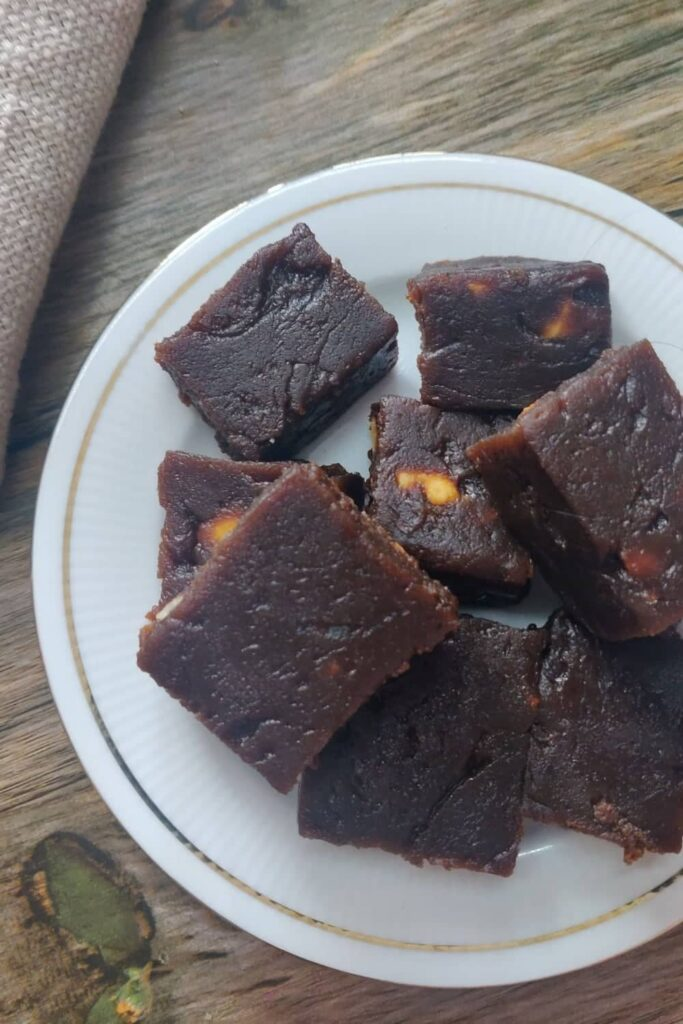dodol: (136, 470, 455, 793), (463, 343, 683, 638), (300, 615, 536, 888), (148, 225, 402, 452), (529, 608, 681, 859), (407, 251, 610, 416)
